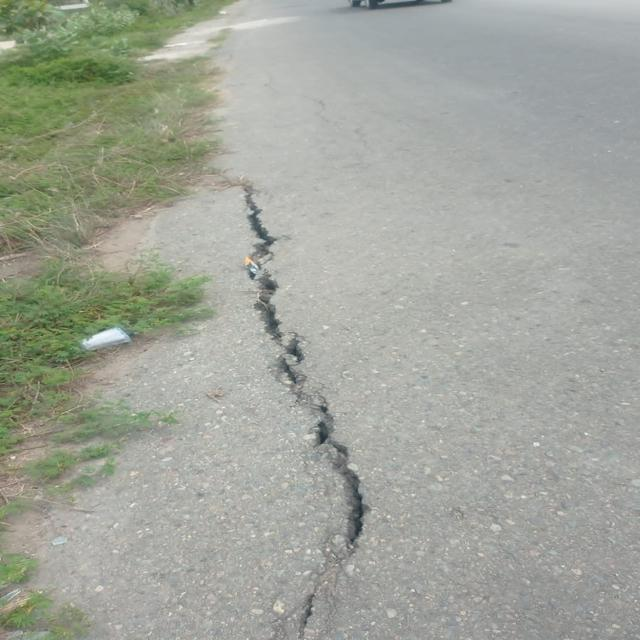Memanjang: (213, 158, 384, 640)
